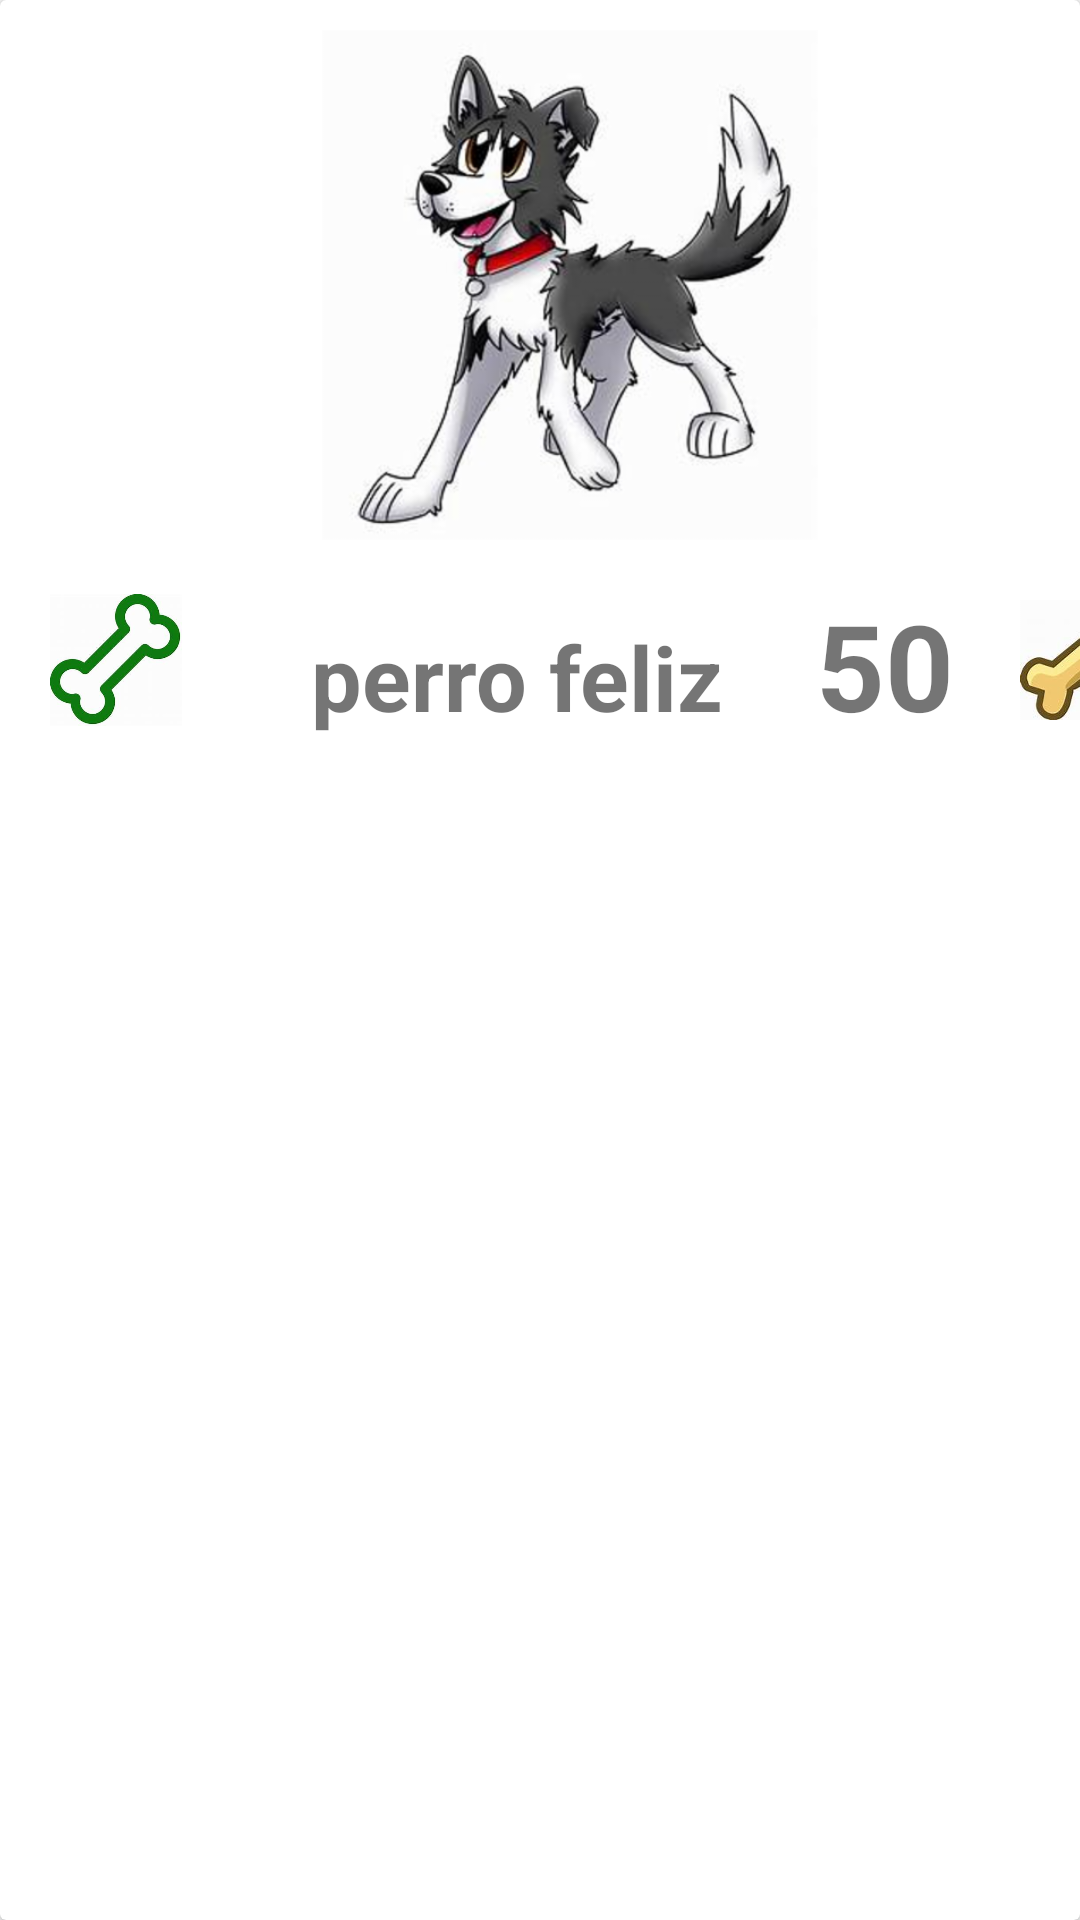

Screen size 1080px x 1920px. Icon name, then its center in pixels as (x=x, y=y):
hueso: (x=115, y=659)
